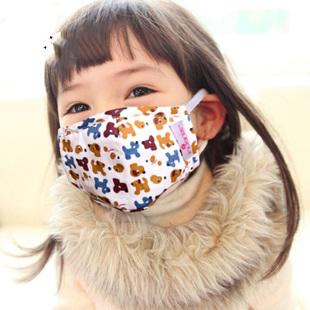OK: (58, 58, 197, 211)
